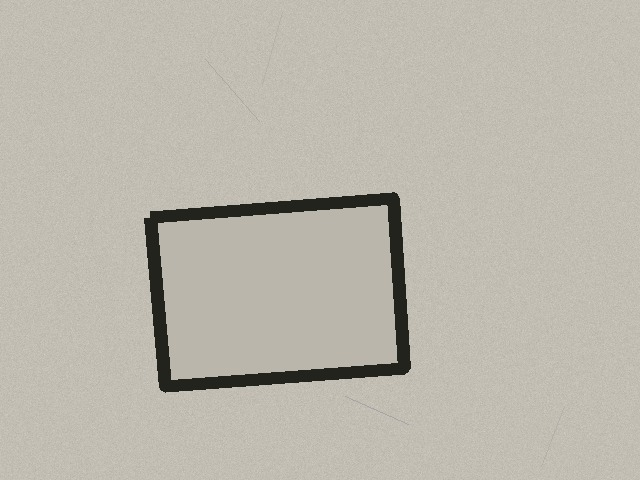parking_area: (150, 198, 404, 386)
